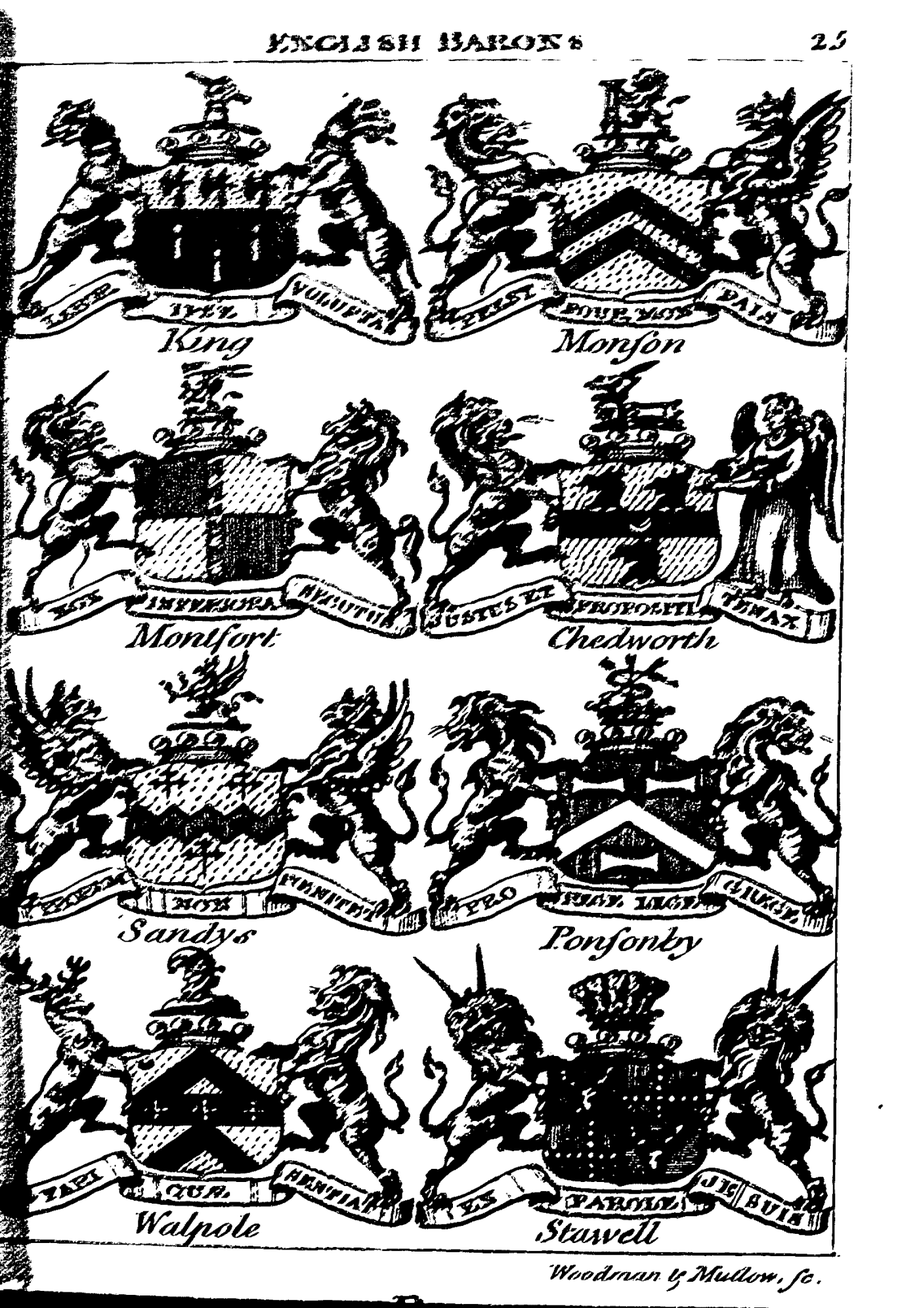coat_of_arms: (421, 656, 851, 959), (418, 360, 840, 658), (419, 74, 846, 368), (16, 652, 419, 959), (419, 947, 826, 1246), (11, 74, 416, 369), (18, 365, 427, 654), (16, 951, 416, 1246)
